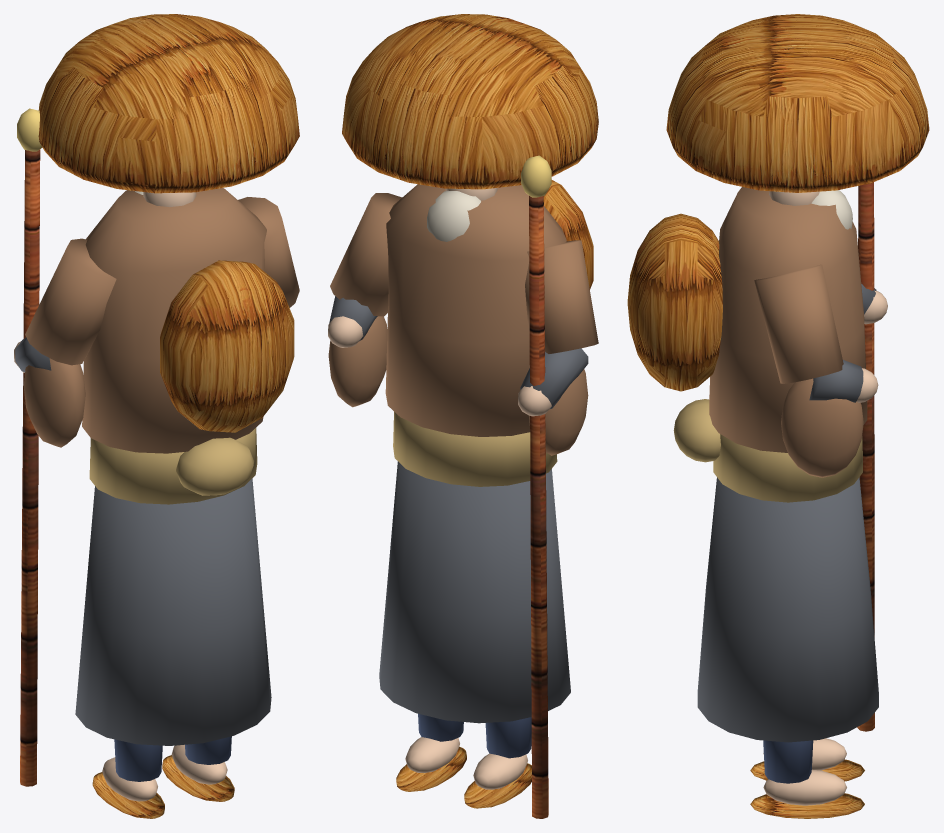
The model's file is edo_person_monk.glb.
The picture shows the model from 3 angles, left to right: view 1: azimuth 30°, elevation 25°; view 2: azimuth 150°, elevation 25°; view 3: azimuth 270°, elevation 25°; orthographic projection. The views are drawn at different scales.
Visible parts, largest first — view 1: person_upper, person_leg_l, person_leg_r; view 2: person_upper, person_leg_l, person_leg_r; view 3: person_upper, person_leg_r, person_leg_l.
Part boxes in pixels (bbox=[...]): person_upper: bbox=[14, 14, 299, 786]; person_leg_l: bbox=[92, 739, 164, 818]; person_leg_r: bbox=[162, 736, 234, 801]; person_upper: bbox=[328, 14, 598, 818]; person_leg_l: bbox=[464, 717, 531, 808]; person_leg_r: bbox=[396, 713, 466, 791]; person_upper: bbox=[627, 14, 929, 742]; person_leg_r: bbox=[750, 740, 864, 818]; person_leg_l: bbox=[750, 738, 864, 781].
Size of the model in its own units: 0.6278 by 1.72 by 0.62.
9 materials, 2 textured.
